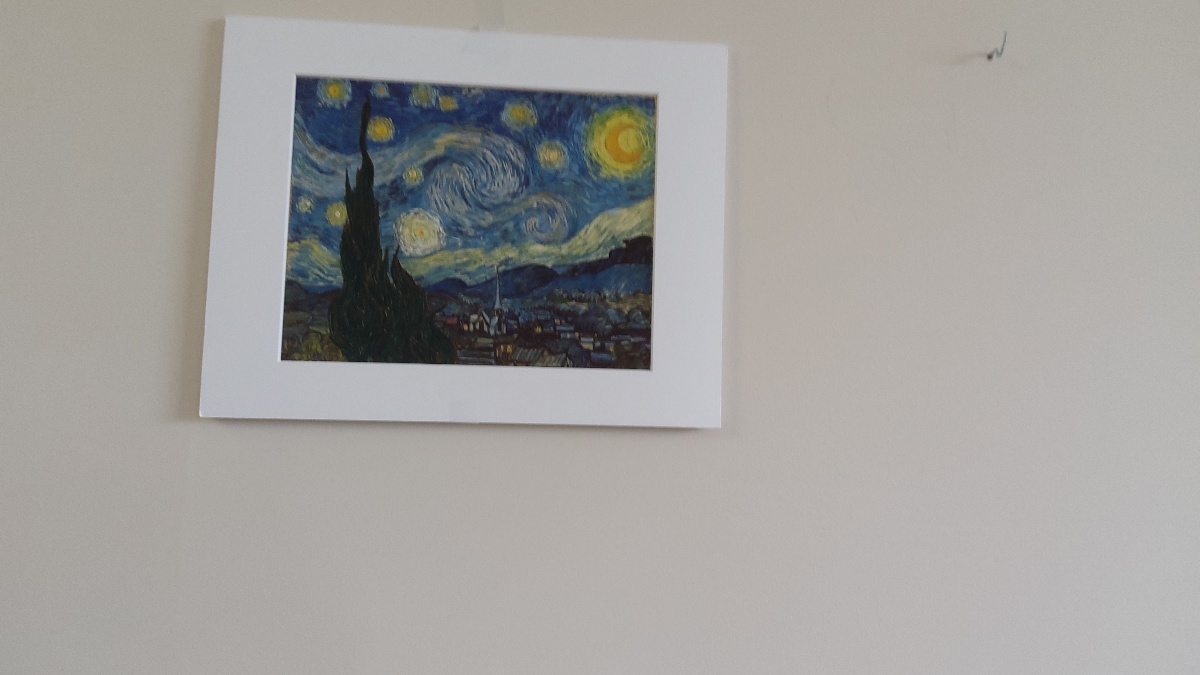painting: (270, 59, 663, 386)
